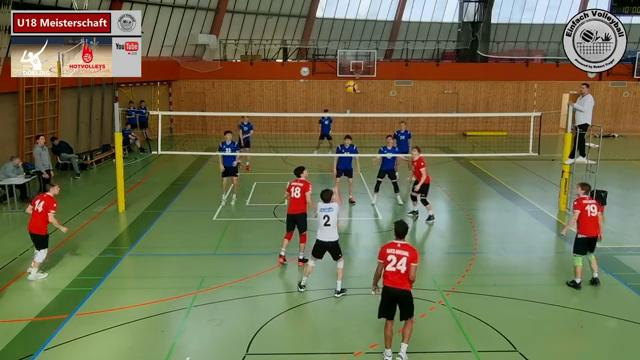Player: (372, 220, 418, 359), (561, 182, 602, 289), (26, 183, 66, 279), (278, 166, 312, 265), (372, 135, 402, 204), (408, 146, 434, 223), (218, 130, 239, 204), (333, 156, 355, 204), (314, 116, 332, 153), (393, 121, 411, 154), (239, 116, 253, 152)
Receive: (298, 175, 359, 297)
ball: (345, 79, 359, 94)
